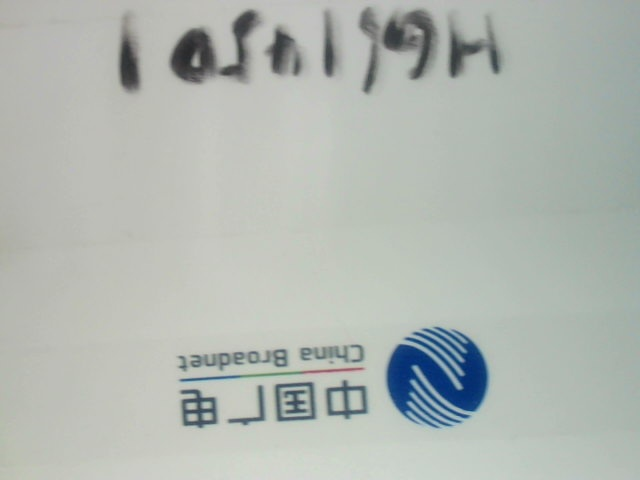AW_ChinaBroadNet: (143, 304, 504, 440)
